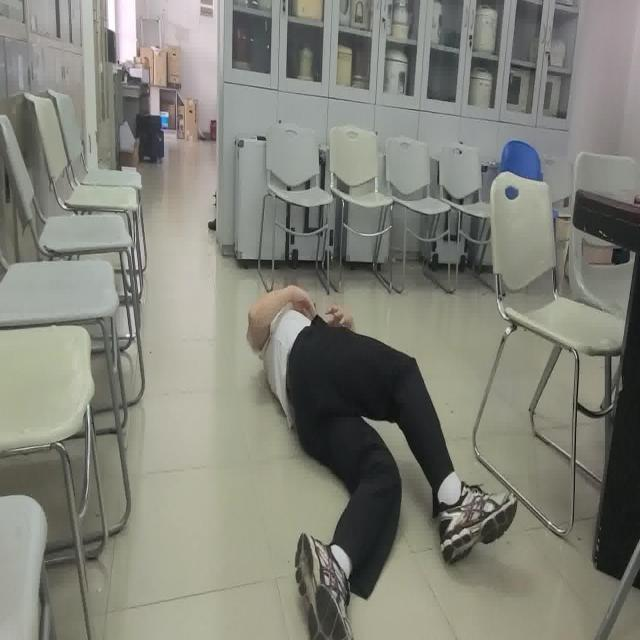fall: (244, 281, 518, 640)
